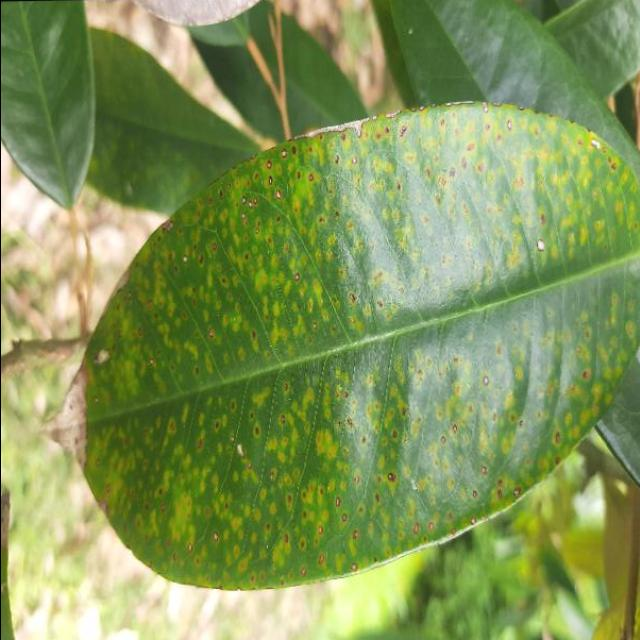Leaf Spot: (32, 90, 640, 602)
